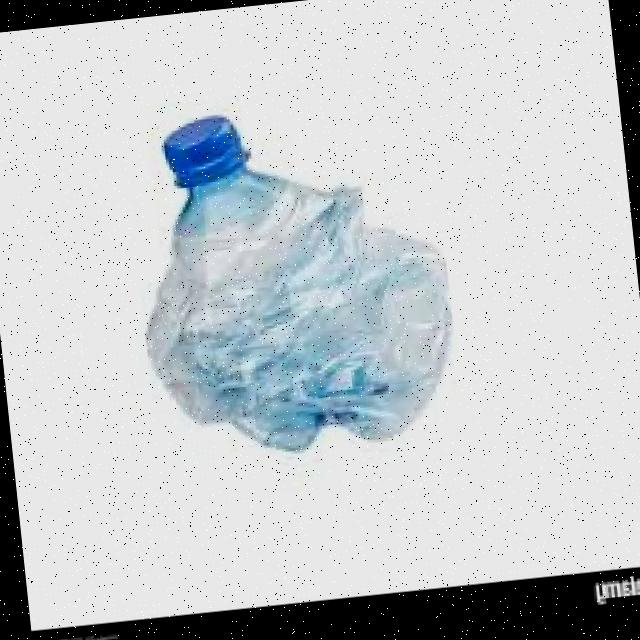bottle: (107, 70, 482, 473)
cap: (156, 108, 248, 198)
